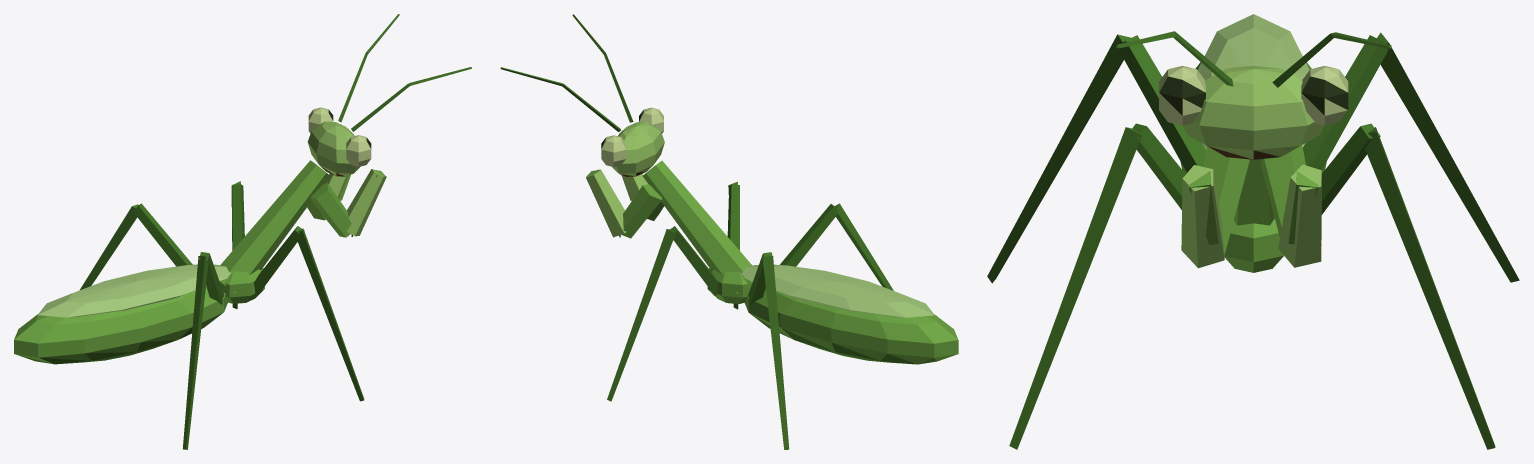
File: bosses-the-praying-mantis.glb
3 views of the same model, side by side, from view 1: azimuth 30°, elevation 25°; view 2: azimuth 150°, elevation 25°; view 3: azimuth 270°, elevation 25° (orthographic). The views are drawn at different scales.
Bounding box in the file's own units: 16.12 × 10.28 × 9.36.
